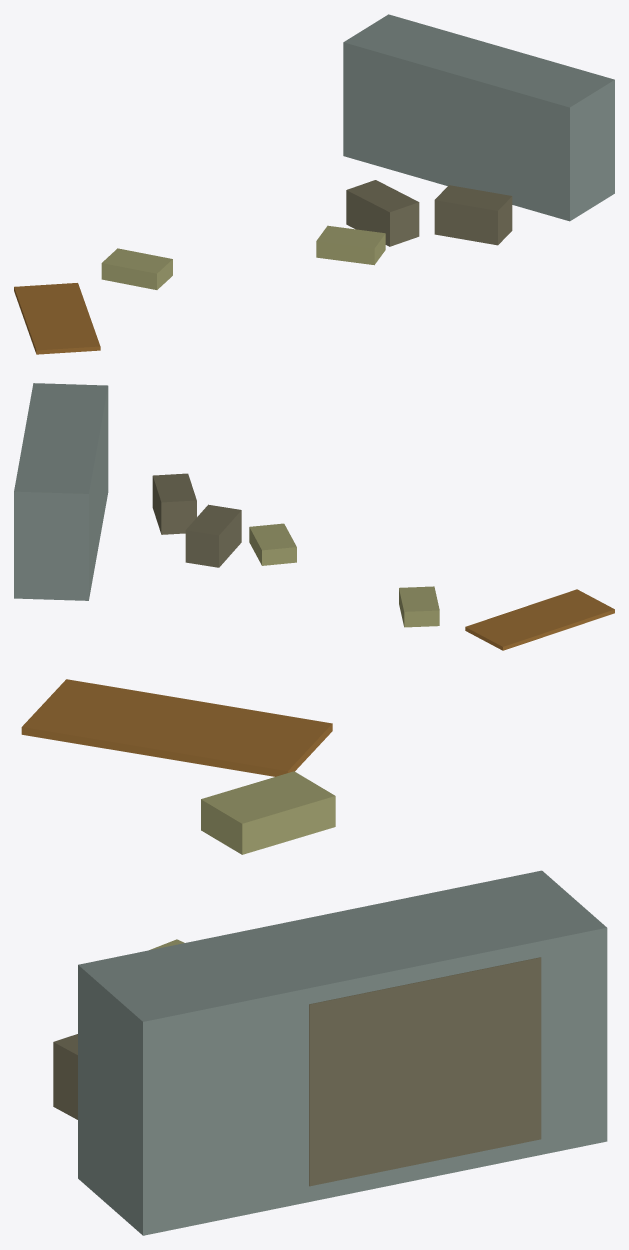
Rendered from SM_BarricadaCivil_v4_Mixta_e3_Brecha_LOD1.fbx.
3 views of the same model, one above another, from view 1: azimuth 30°, elevation 25°; view 2: azimuth 150°, elevation 25°; view 3: azimuth 270°, elevation 25° (orthographic). The views are drawn at different scales.
Visible parts, largest first — view 1: SM_barricada_civil_v19_LOD1; view 2: SM_barricada_civil_v19_LOD1; view 3: SM_barricada_civil_v19_LOD1.
Boxes of the visible parts, box(x1,y1,x2,y2) form: SM_barricada_civil_v19_LOD1: box(14, 14, 614, 354); SM_barricada_civil_v19_LOD1: box(14, 383, 614, 650); SM_barricada_civil_v19_LOD1: box(21, 679, 607, 1235).
Bounding box in the file's own units: 9.08 × 1.65 × 4.09.
